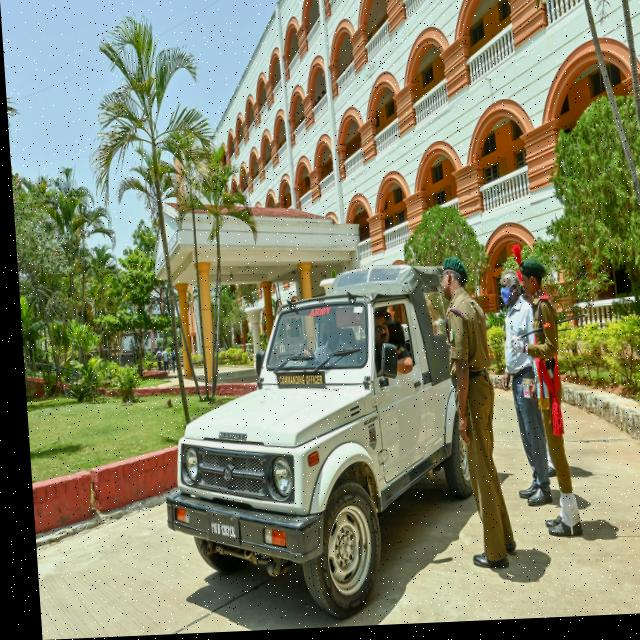plate: (197, 506, 239, 552)
